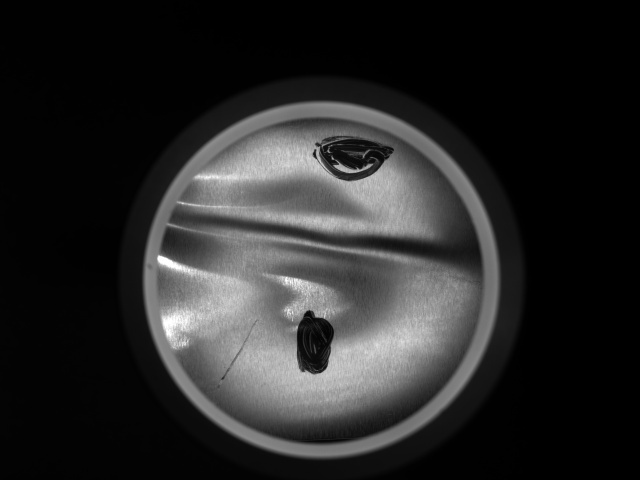ca_shang: (218, 309, 261, 393)
zang_wu: (309, 133, 395, 185), (289, 308, 338, 379)
zhe_zhou: (209, 142, 434, 415)
